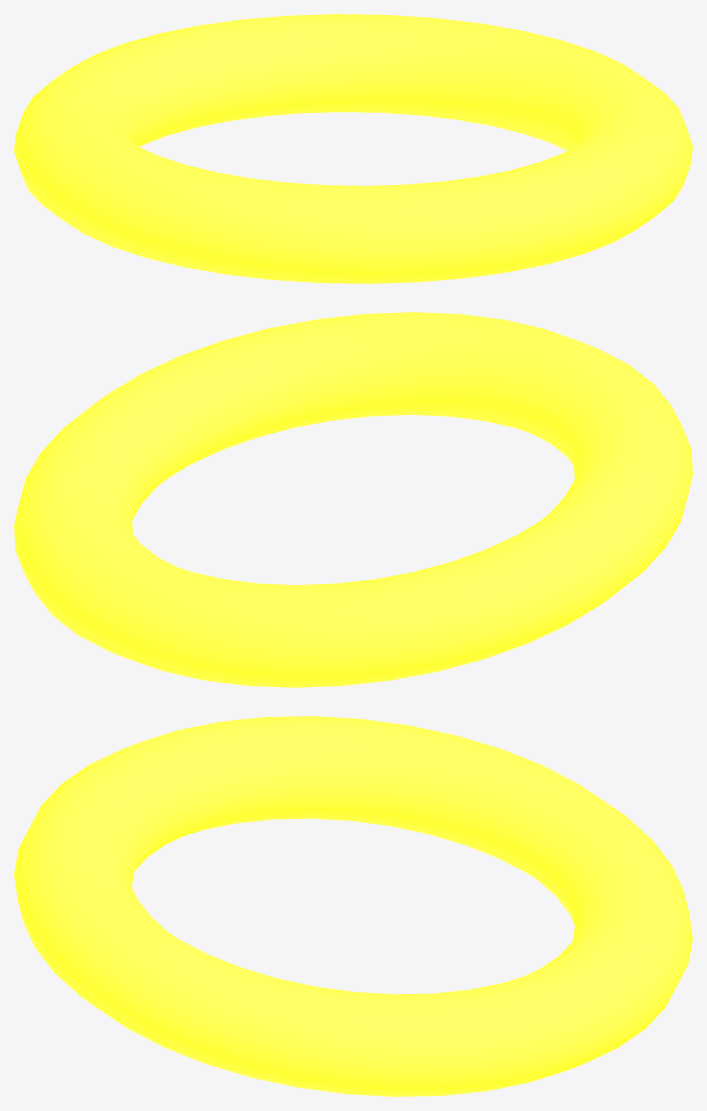
The model's file is hat_halo.glb.
The picture shows the model from 3 angles, top to bottom: view 1: azimuth 30°, elevation 25°; view 2: azimuth 150°, elevation 25°; view 3: azimuth 270°, elevation 25°; orthographic projection.
Parts seen in each view (by area): view 1: Float; view 2: Float; view 3: Float.
Boxes of the visible parts, bbox=[...] form: Float: bbox=[14, 14, 692, 283]; Float: bbox=[14, 312, 692, 687]; Float: bbox=[14, 716, 692, 1096].
Size of the model in its own units: 0.4589 by 0.1127 by 0.4575.
